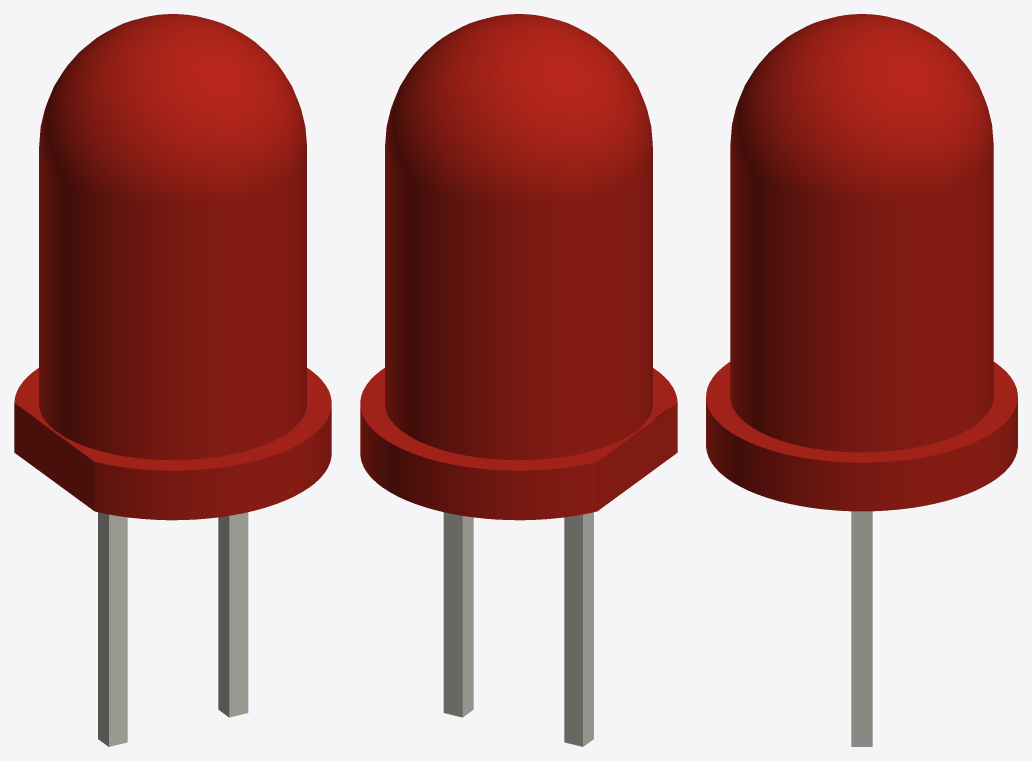
Rendered from led_d5_0mm.glb.
3 renders of one model, left to right at view 1: azimuth 30°, elevation 25°; view 2: azimuth 150°, elevation 25°; view 3: azimuth 270°, elevation 25°, orthographic.
Parts seen in each view (by area): view 1: led_5mm, pin_2, pin_1; view 2: led_5mm, pin_2, pin_1; view 3: led_5mm, pin_2.
Boxes of the visible parts, <box> form: led_5mm: <box>14,14,331,622</box>; pin_2: <box>218,586,248,717</box>; pin_1: <box>98,615,127,746</box>; led_5mm: <box>360,14,677,622</box>; pin_2: <box>443,586,473,717</box>; pin_1: <box>564,615,593,746</box>; led_5mm: <box>706,14,1017,624</box>; pin_2: <box>851,625,872,746</box>.
Size of the model in its own units: 0.0054 by 0.0141 by 0.0058.
